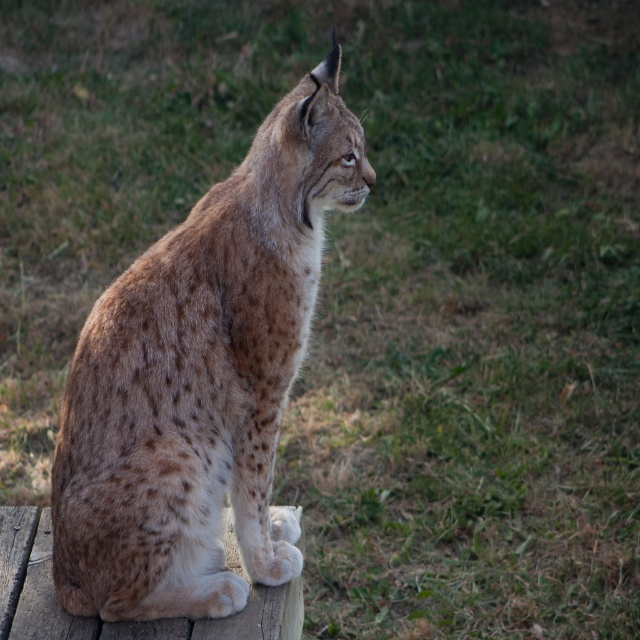Lynx: (52, 21, 382, 623)
